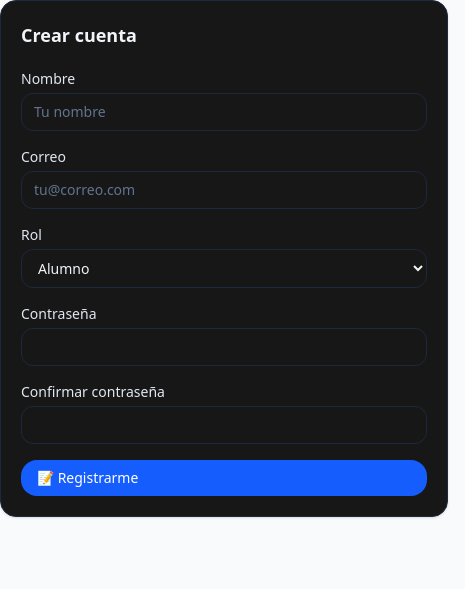
🧾 Register Form (actual) › ❌ muestra error si las contraseñas no coinciden
Type "Test User" into the field labelled "Nombre" at (224,112), box [21, 93, 427, 131]
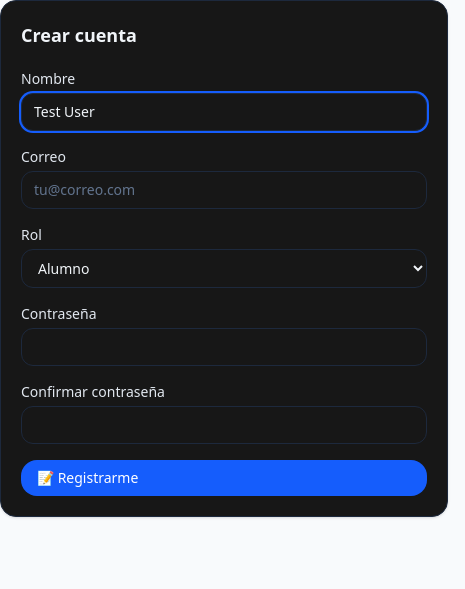
Type "test@example.com" into the field labelled "Correo" at (224,190), box [21, 171, 427, 209]
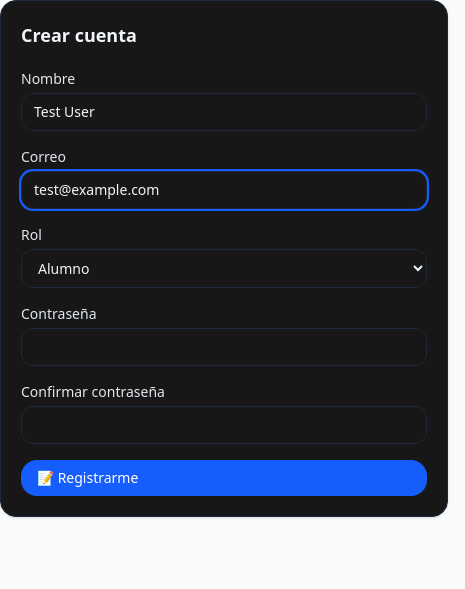
Type "clave123" into the password field labelled "Contraseña" at (224,347), box [21, 328, 427, 366]
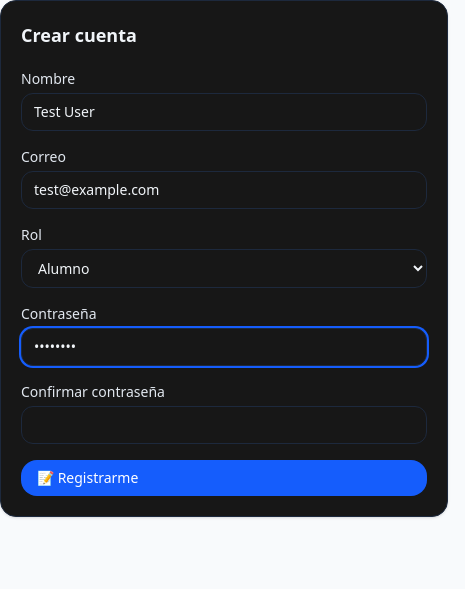
Type "clave_diferente" into the password field labelled "Confirmar contraseña" at (224,425), box [21, 406, 427, 444]
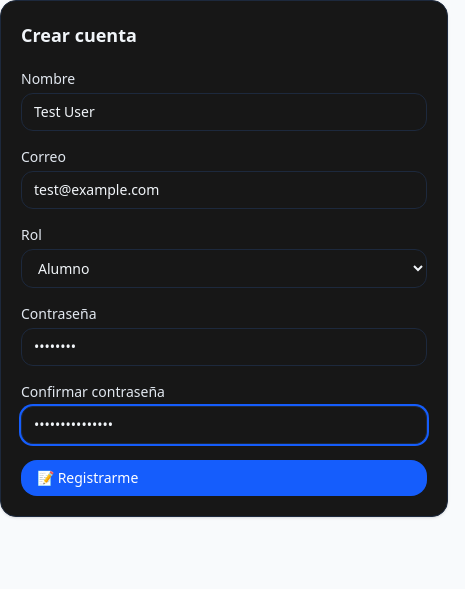
Click the button "📝 Registrarme" at (88,478), box [21, 460, 427, 496]
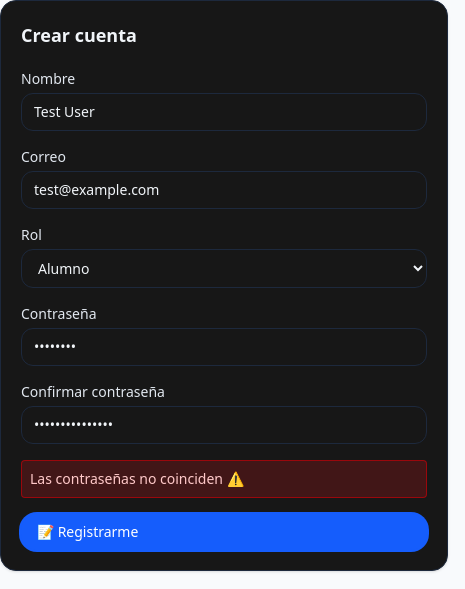
Expected: the text "Las contraseñas no coinciden ⚠️" is shown, [21, 460, 427, 498]
